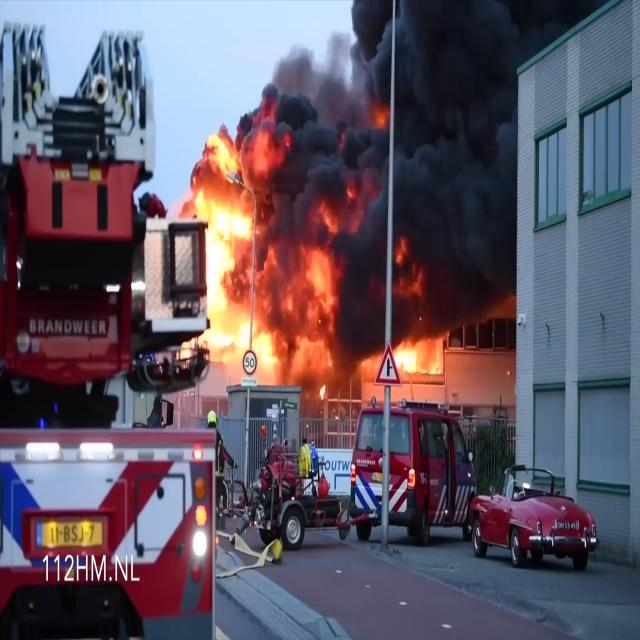Fire: (187, 116, 312, 384), (382, 330, 452, 384)
Smoke: (234, 0, 518, 347)
